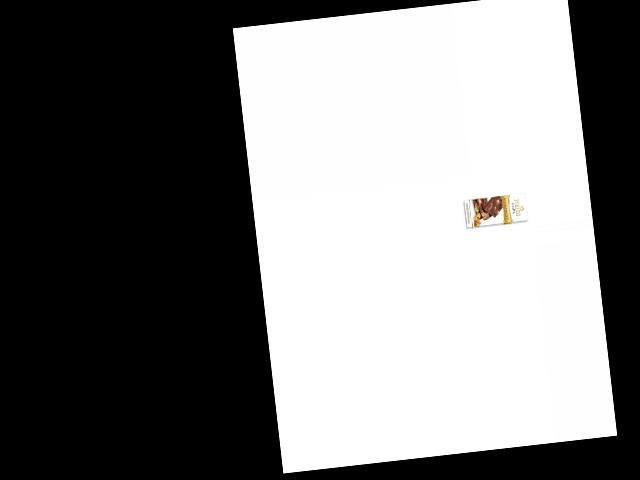chocolate: (463, 186, 532, 234)
